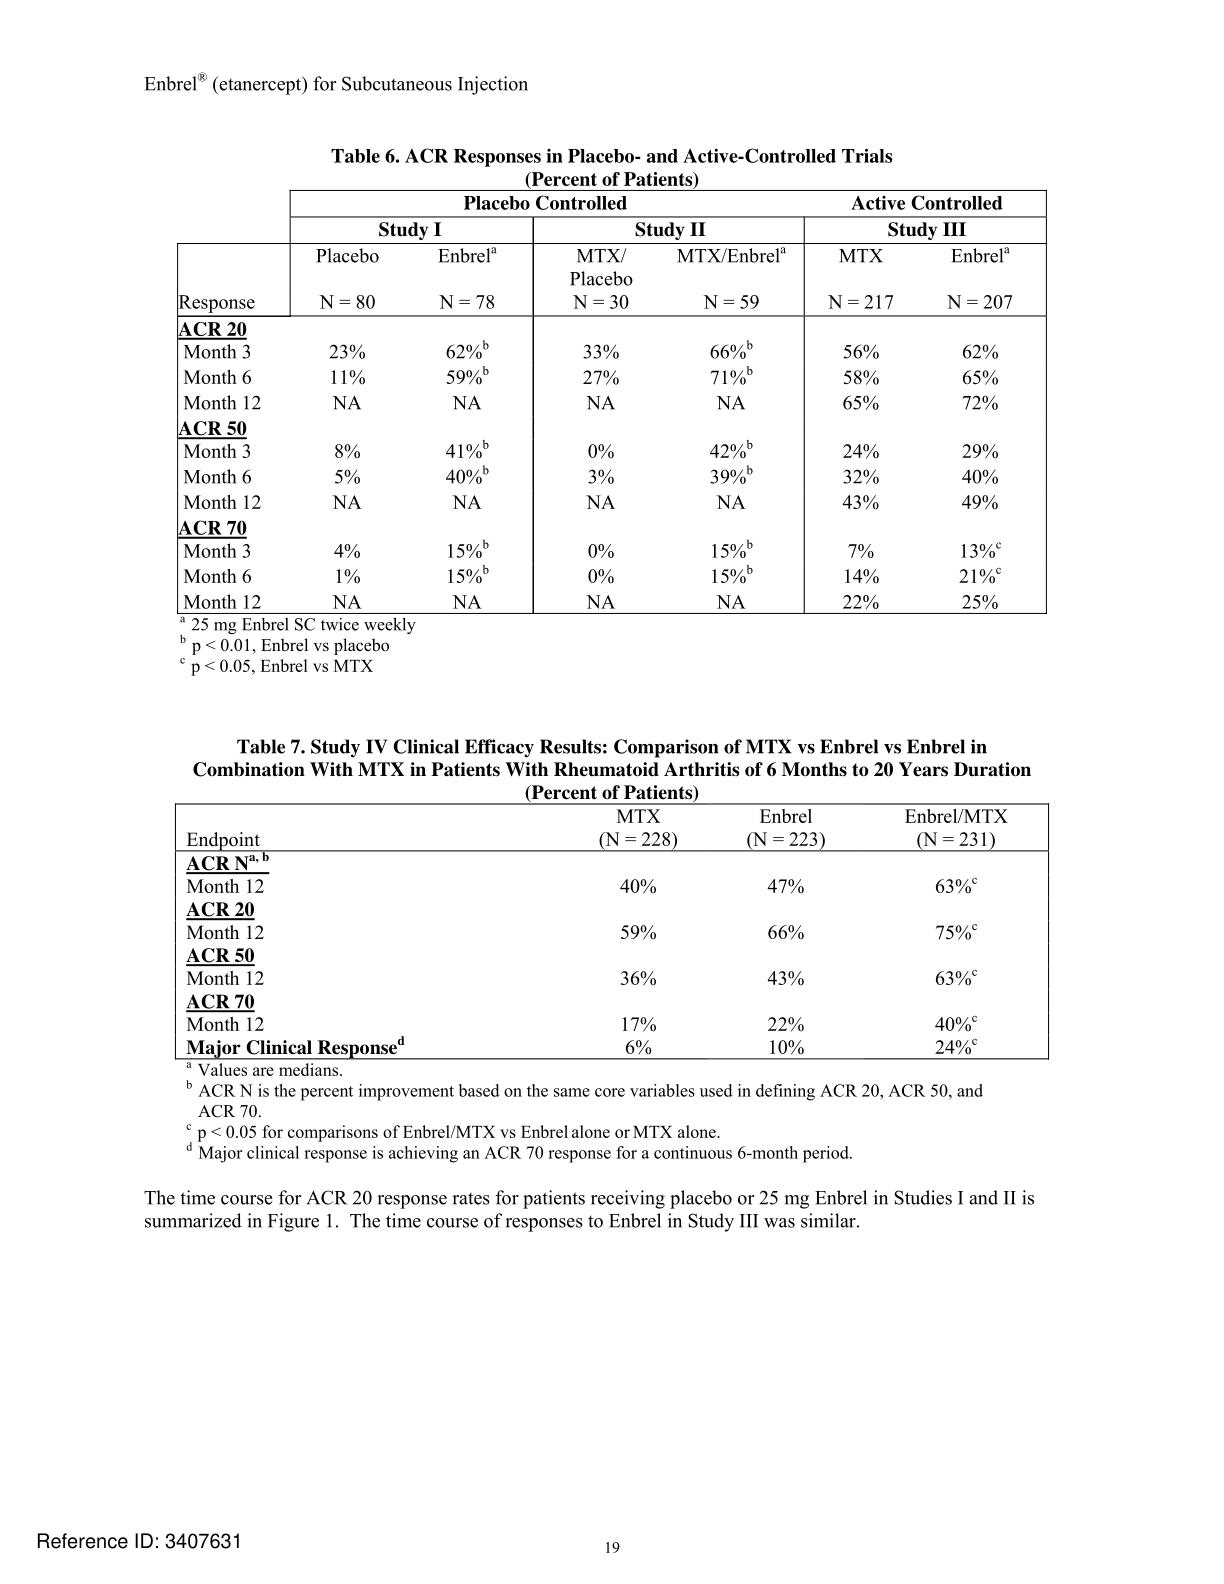partial_lined: (172, 802, 1050, 1061)
partial_lined_merged_cells: (175, 186, 1049, 616)
